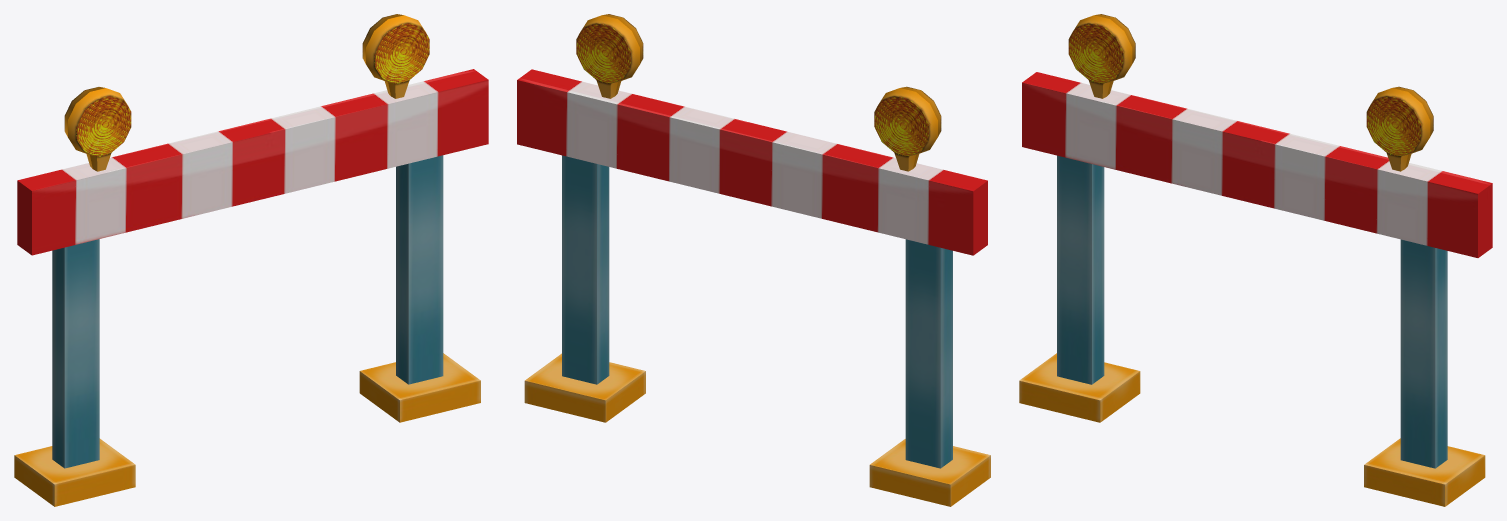
Rendered from jump+slidedown with lights.FBX.
3 views of the same model, side by side, from view 1: azimuth 30°, elevation 25°; view 2: azimuth 150°, elevation 25°; view 3: azimuth 330°, elevation 25° (orthographic).
Parts seen in each view (by area): view 1: jum+slide down with light; view 2: jum+slide down with light; view 3: jum+slide down with light.
Boxes of the visible parts, x1,y1,x2,y2 form: jum+slide down with light: [14, 14, 488, 506]; jum+slide down with light: [517, 14, 990, 506]; jum+slide down with light: [1019, 14, 1492, 506].
Size of the model in its own units: 153 by 124 by 23.24.
